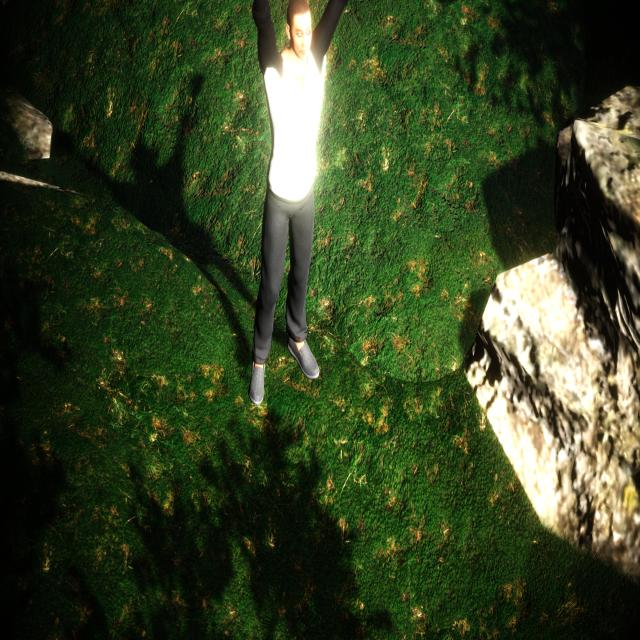Human: (240, 0, 354, 419)
